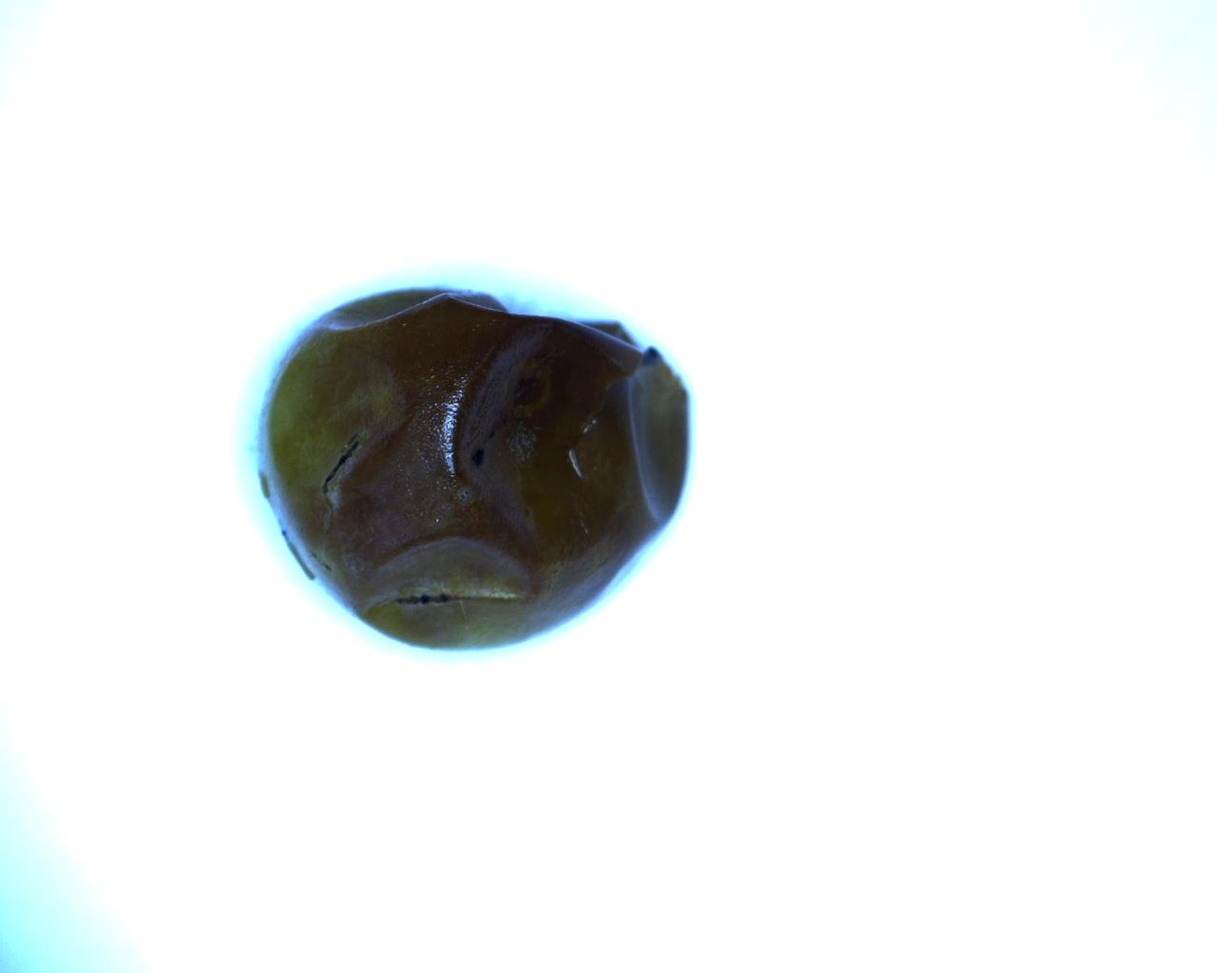Grape Rotten: (256, 284, 692, 652)
